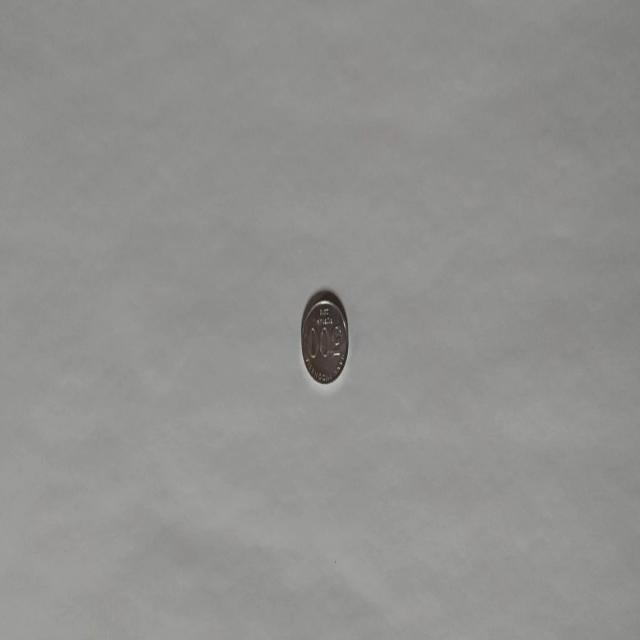lima ratus rupiah: (299, 289, 349, 385)
